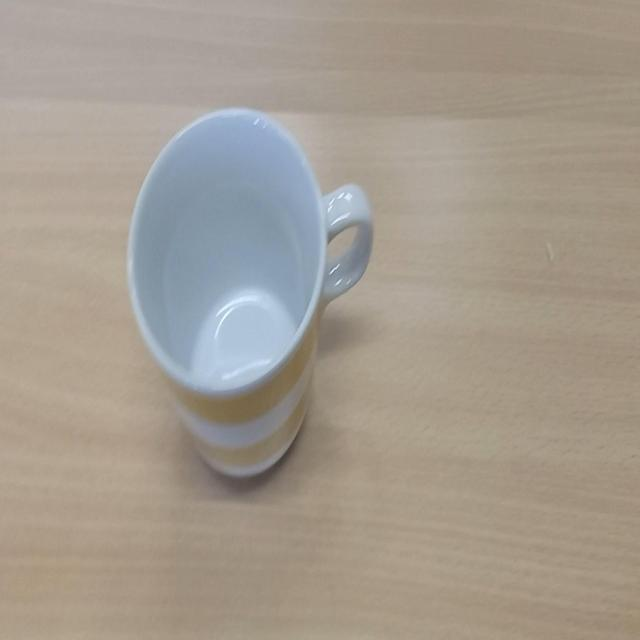cup: (125, 102, 375, 489)
